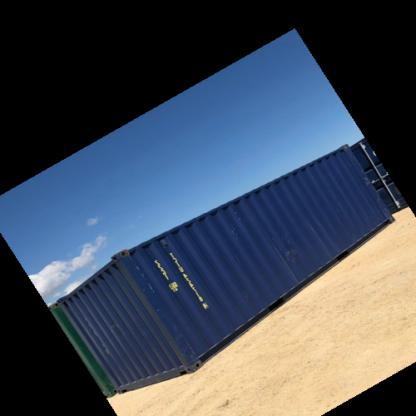Damage: (126, 260, 195, 358), (270, 229, 306, 265), (215, 213, 247, 251)
